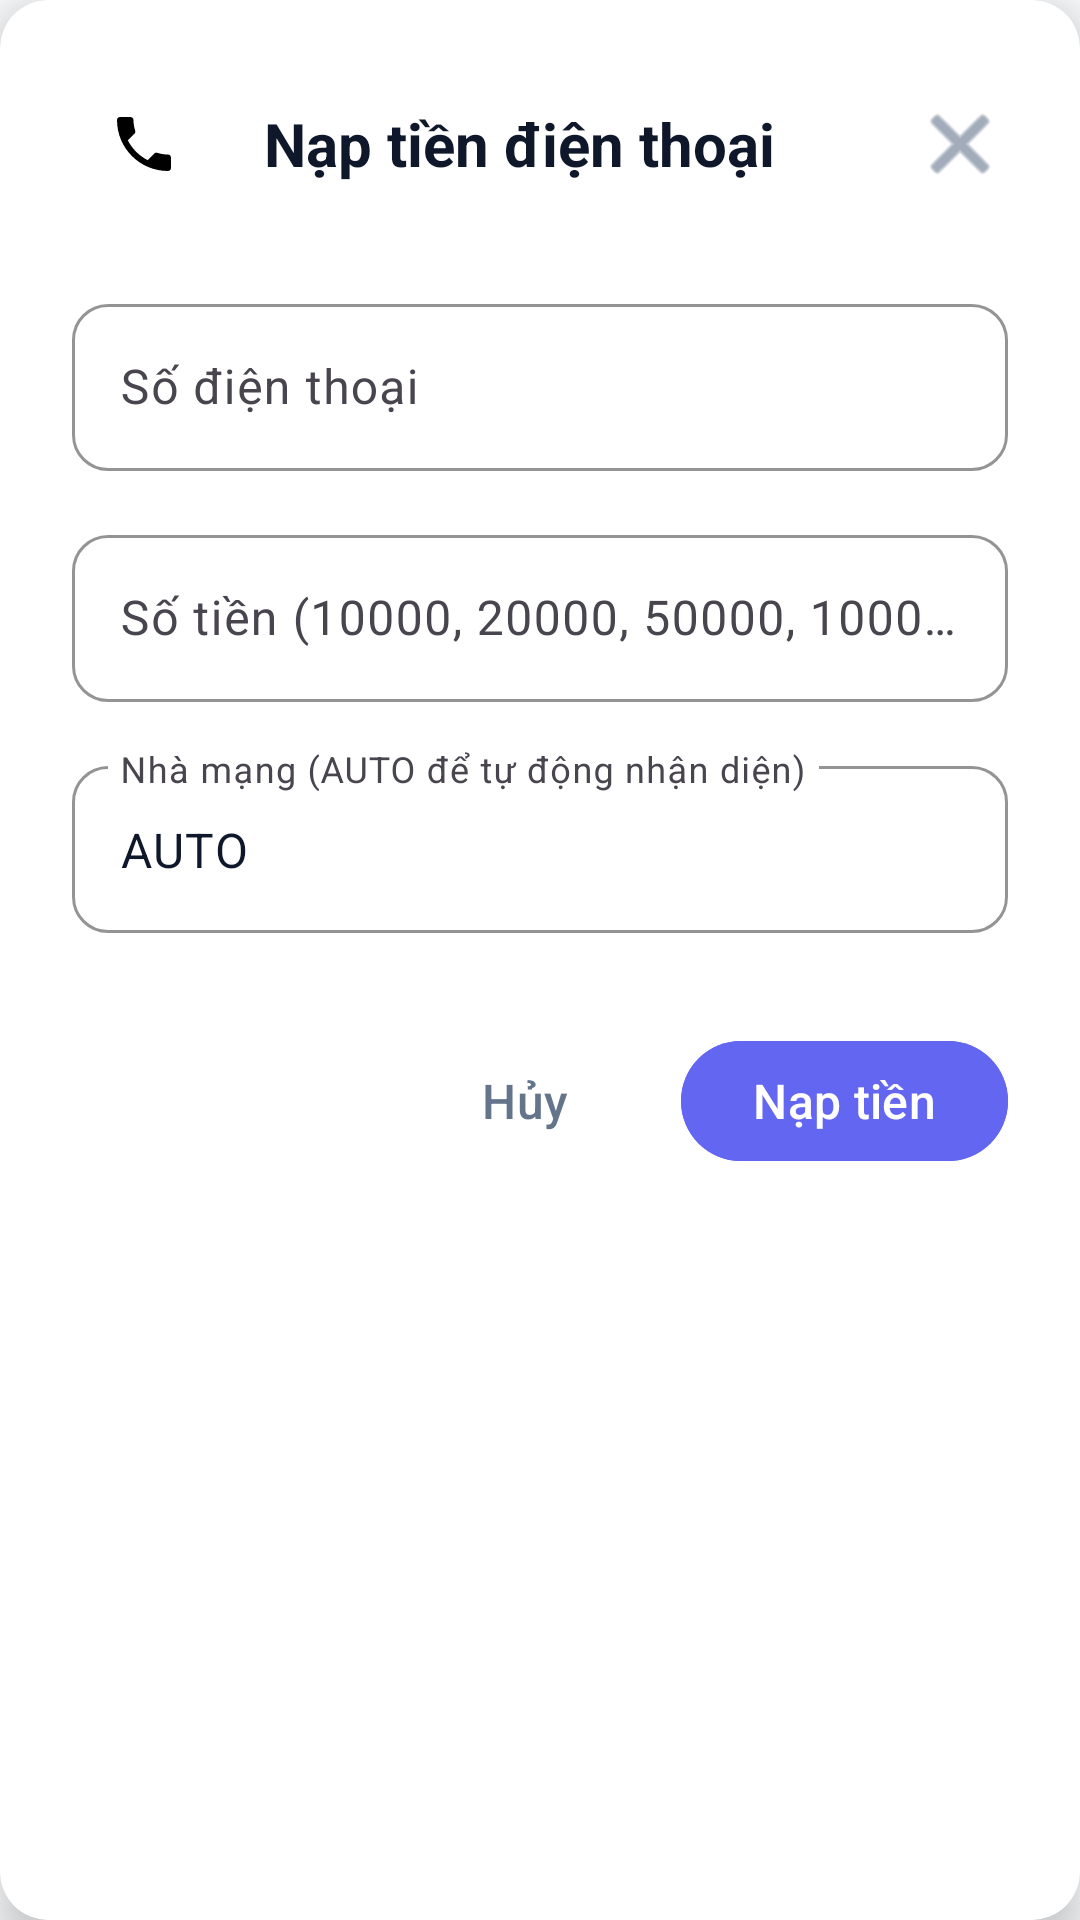

Named icons in this screenshot (1080 × 1920) and their bounding boxes, (x1, y1, x2, y2):
Đóng: (930, 114, 990, 174)
